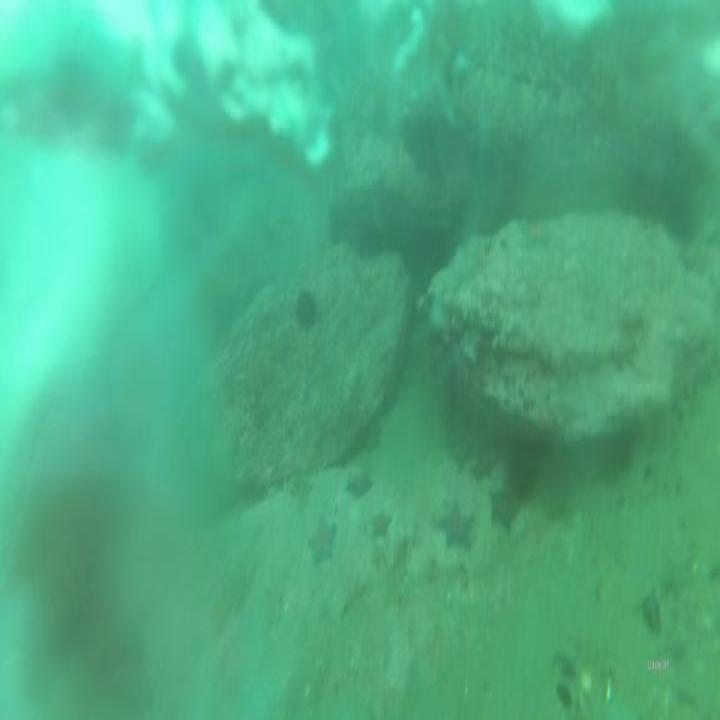echinus: (294, 290, 320, 332)
starfish: (438, 499, 474, 553), (305, 514, 338, 567), (487, 480, 520, 528), (343, 465, 373, 500), (372, 510, 392, 539)
